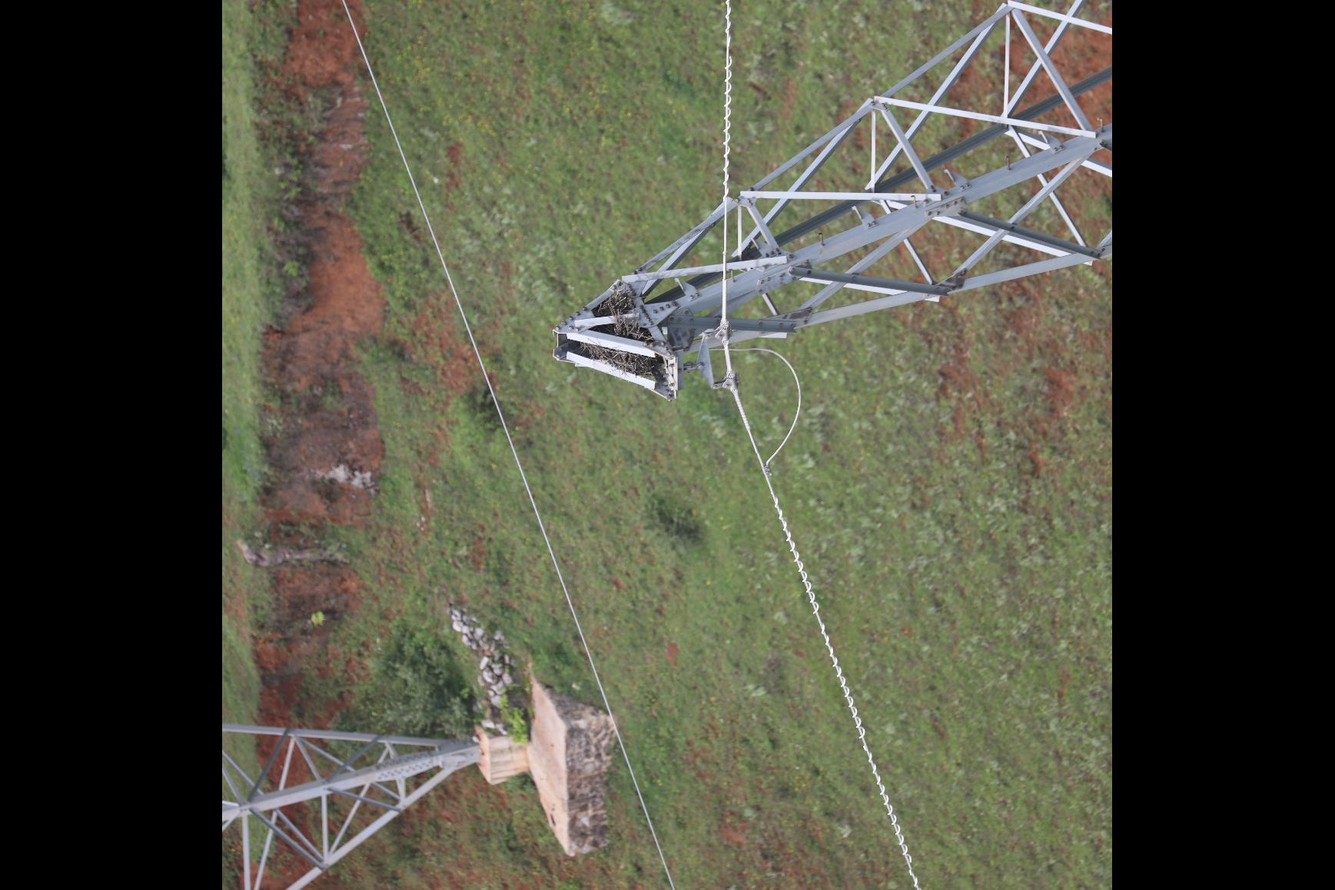nest: (582, 287, 664, 380)
